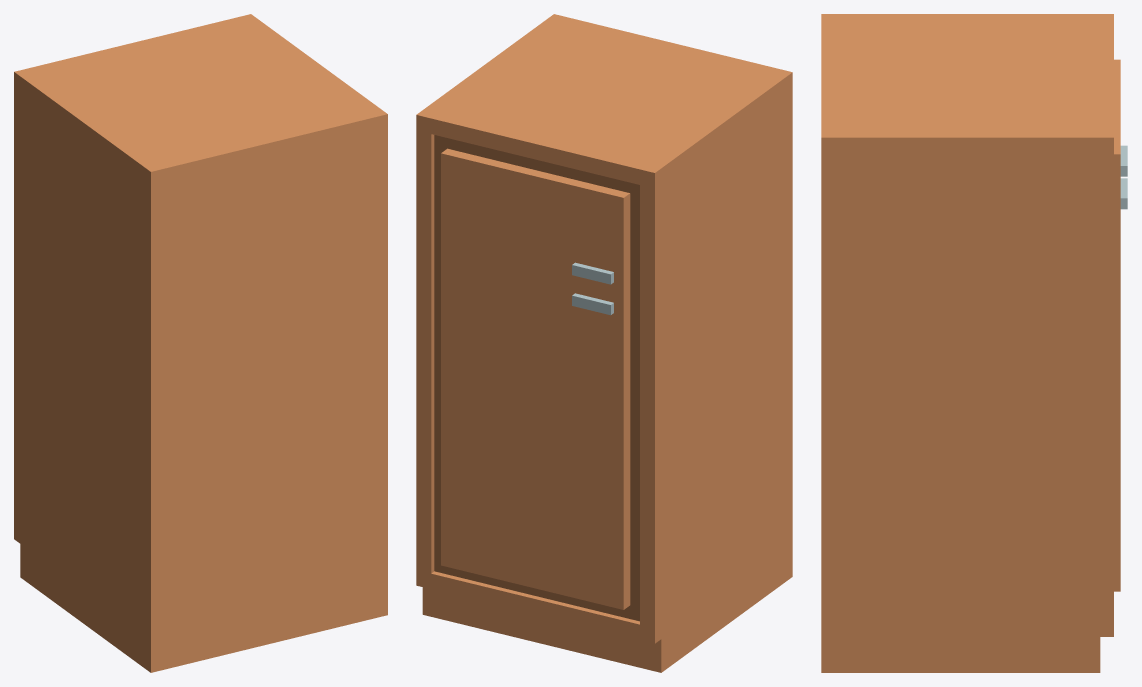
File: Kitchen Fridge Built In.glb
3 renders of one model, left to right at view 1: azimuth 30°, elevation 25°; view 2: azimuth 150°, elevation 25°; view 3: azimuth 270°, elevation 25°, orthographic. The views are drawn at different scales.
Visible parts, largest first — view 1: kitchenFridgeBuiltIn; view 2: kitchenFridgeBuiltIn, doorFridge, doorFreezer; view 3: kitchenFridgeBuiltIn, doorFridge, doorFreezer.
Part boxes in pixels (left/top/right/bottom): kitchenFridgeBuiltIn: left=14, top=14, right=387, bottom=672; kitchenFridgeBuiltIn: left=416, top=14, right=792, bottom=672; doorFridge: left=441, top=250, right=630, bottom=609; doorFreezer: left=441, top=148, right=630, bottom=294; kitchenFridgeBuiltIn: left=821, top=14, right=1113, bottom=672; doorFridge: left=1114, top=178, right=1127, bottom=591; doorFreezer: left=1114, top=59, right=1127, bottom=256.
Size of the model in its own units: 0.43 by 0.8687 by 0.45.
